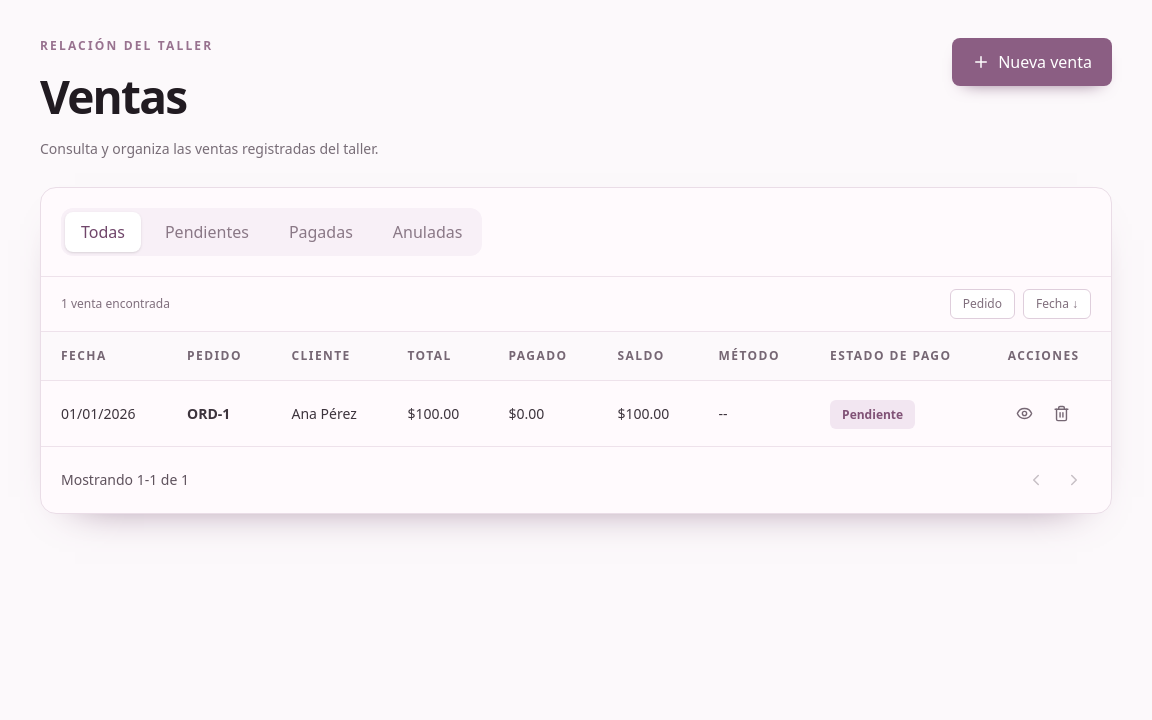
Test case: SalesPage › opens the sale detail drawer
Click the button named "Ver venta ORD-1": [1024, 414] box [1008,397,1041,430]
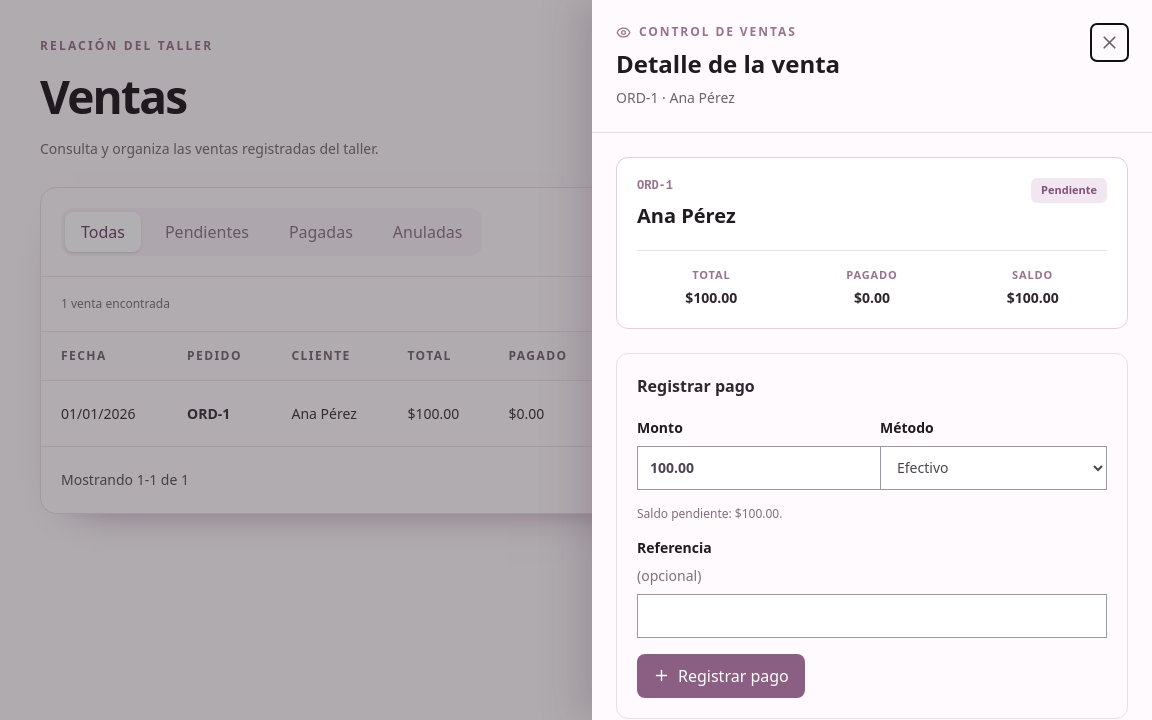
Check: the dialog "Detalle de la venta" is shown, box [592,0,1151,719]
